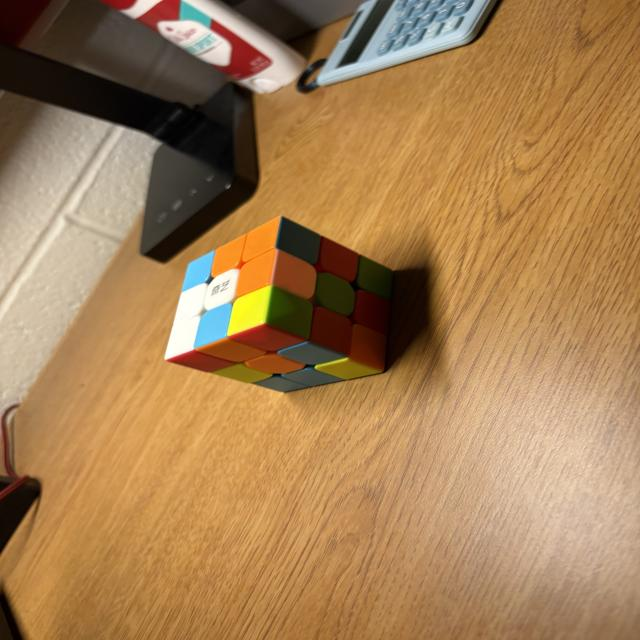Rubiks Cube: (164, 216, 394, 397)
